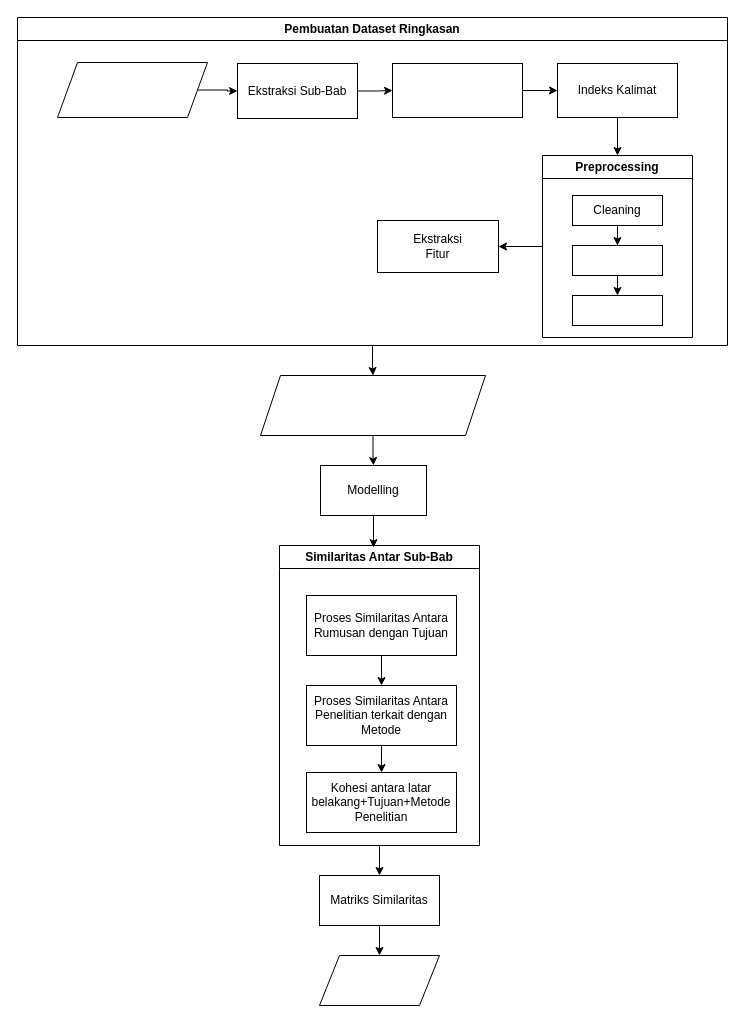
This 745x1023 diagram has some shape labels left out. Each missing label, with the centre of its shape:
Case Floding: (x=617, y=260)
Dataset Ringkasan Per Sub-Bab: (x=373, y=405)
Dokumen Propopsal Kualifikasi: (x=132, y=90)
Pemecahan Paragraf menjadi Kalimat: (x=457, y=90)
Rekomendasi: (x=379, y=980)
Stemming: (x=617, y=310)
